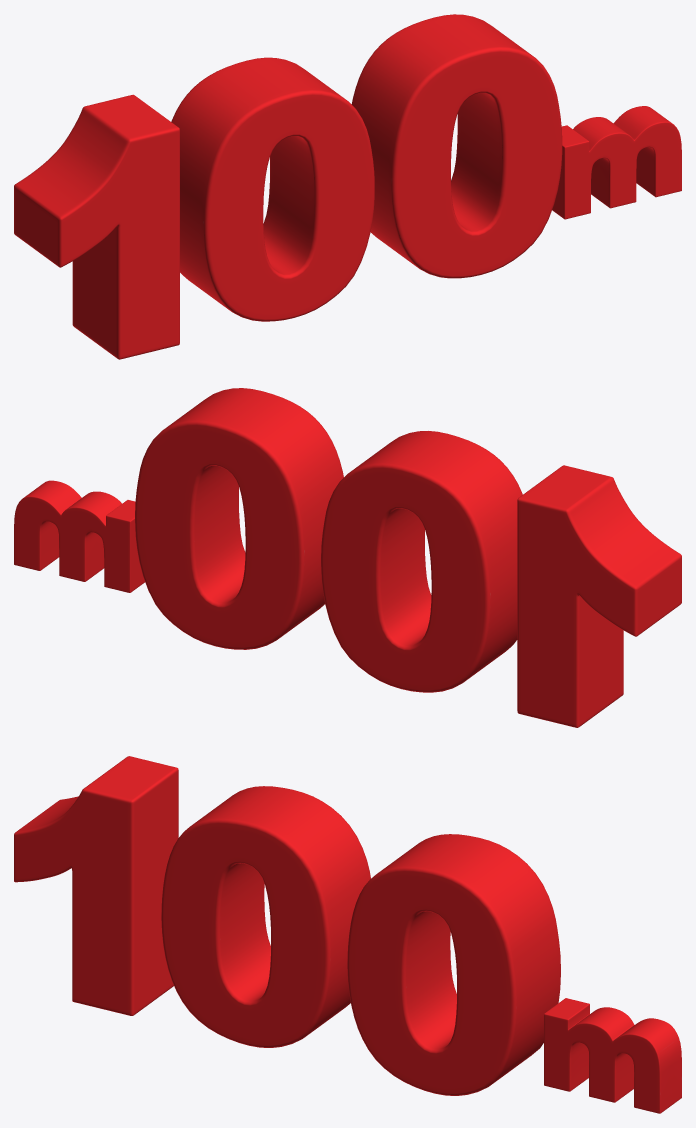
The picture shows the model from 3 angles, top to bottom: view 1: azimuth 30°, elevation 25°; view 2: azimuth 150°, elevation 25°; view 3: azimuth 330°, elevation 25°; orthographic projection.
Parts seen in each view (by area): view 1: node_id52, node_id36, node_id30, node_id76; view 2: node_id36, node_id52, node_id30, node_id76; view 3: node_id52, node_id36, node_id30, node_id76.
Part boxes in pixels (<box>): node_id52: <box>351,14,562,278</box>; node_id36: <box>171,57,374,321</box>; node_id30: <box>14,94,179,359</box>; node_id76: <box>552,106,681,219</box>; node_id36: <box>321,431,522,692</box>; node_id52: <box>135,388,343,649</box>; node_id30: <box>517,465,681,727</box>; node_id76: <box>14,480,144,592</box>; node_id52: <box>347,834,560,1095</box>; node_id36: <box>161,786,370,1047</box>; node_id30: <box>14,756,178,1015</box>; node_id76: <box>544,998,681,1113</box>.
Size of the model in its own units: 0.485 by 0.1655 by 0.0649.
Materials: 4 (4 with a texture image).
